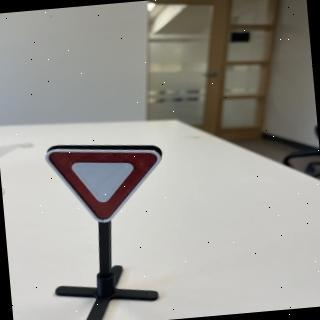sign_yield: (40, 136, 170, 231)
